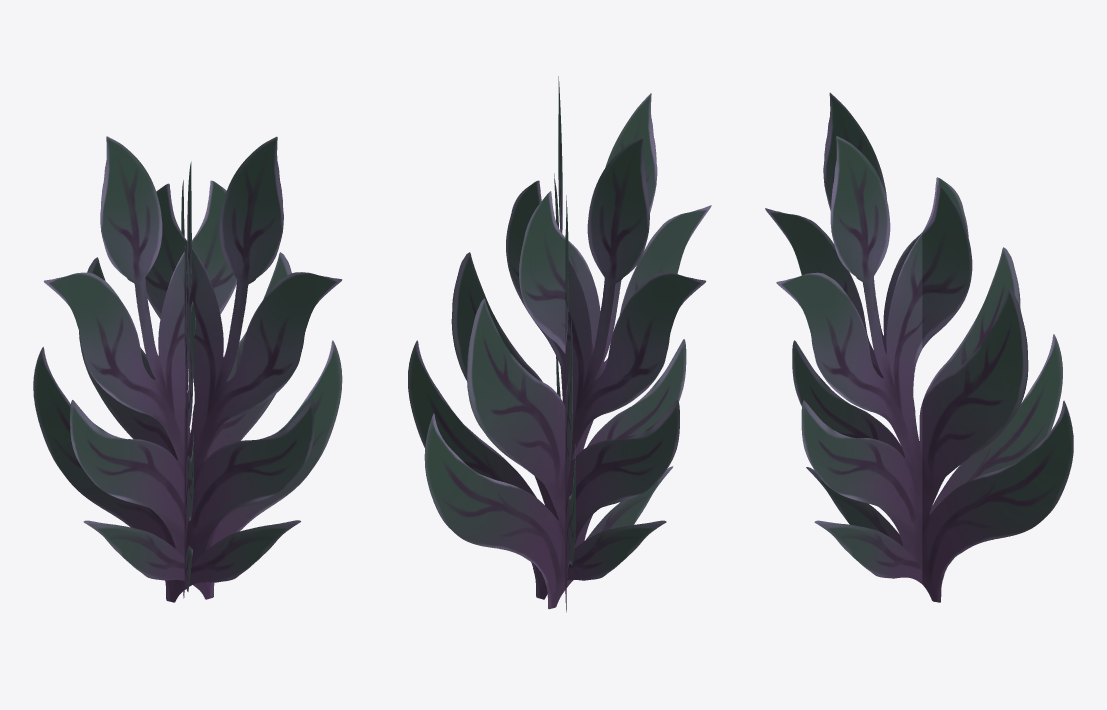
Rendered from Plante001.fbx.
3 renders of one model, left to right at view 1: azimuth 30°, elevation 25°; view 2: azimuth 150°, elevation 25°; view 3: azimuth 270°, elevation 25°, orthographic.
Visible parts, largest first — view 1: Plane.020; view 2: Plane.020; view 3: Plane.020.
Boxes of the visible parts, <box> form: Plane.020: <box>33,136,342,602</box>; Plane.020: <box>408,76,711,612</box>; Plane.020: <box>765,92,1073,602</box>.
Bounding box in the file's own units: 124 × 188 × 111.
